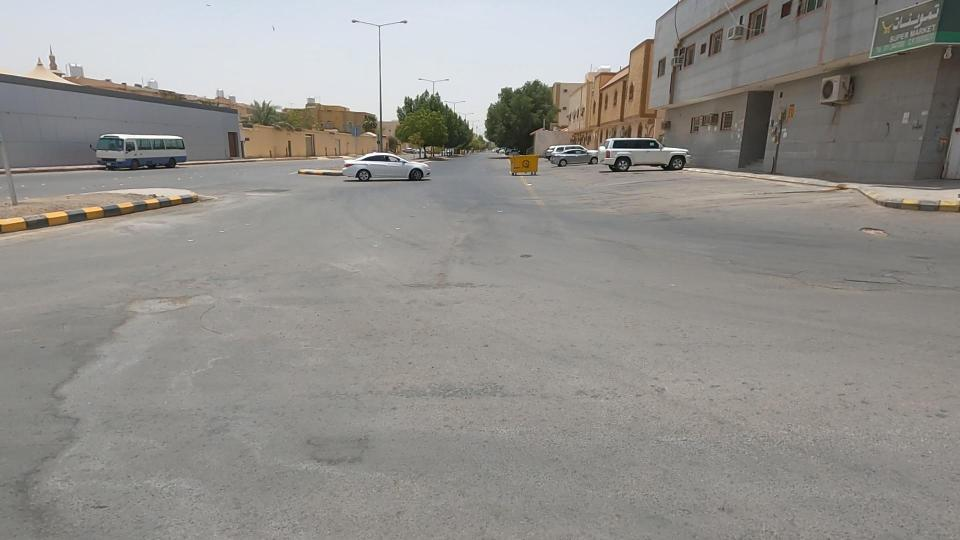POTHOLES: (813, 202, 936, 275)
